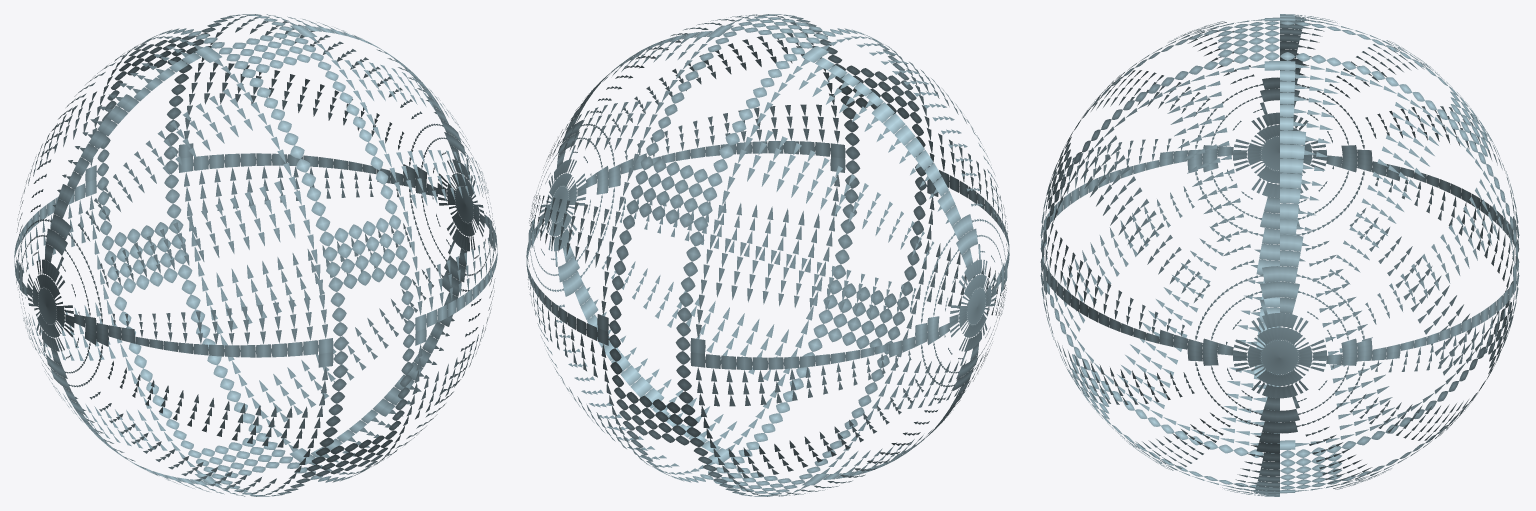
Rendered from HamsterBall.fbx.
The picture shows the model from 3 angles, left to right: view 1: azimuth 30°, elevation 25°; view 2: azimuth 150°, elevation 25°; view 3: azimuth 270°, elevation 25°; orthographic projection.
Visible parts, largest first — view 1: sphere; view 2: sphere; view 3: sphere.
Boxes of the visible parts, x1,y1,x2,y2 form: sphere: [14, 14, 497, 496]; sphere: [526, 14, 1009, 496]; sphere: [1040, 14, 1519, 496].
Bounding box in the file's own units: 24.99 × 24.95 × 24.95.
Materials: 1 (1 with a texture image).
